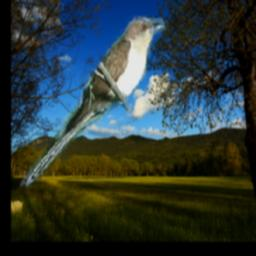Cuckoo: (21, 16, 168, 194)
